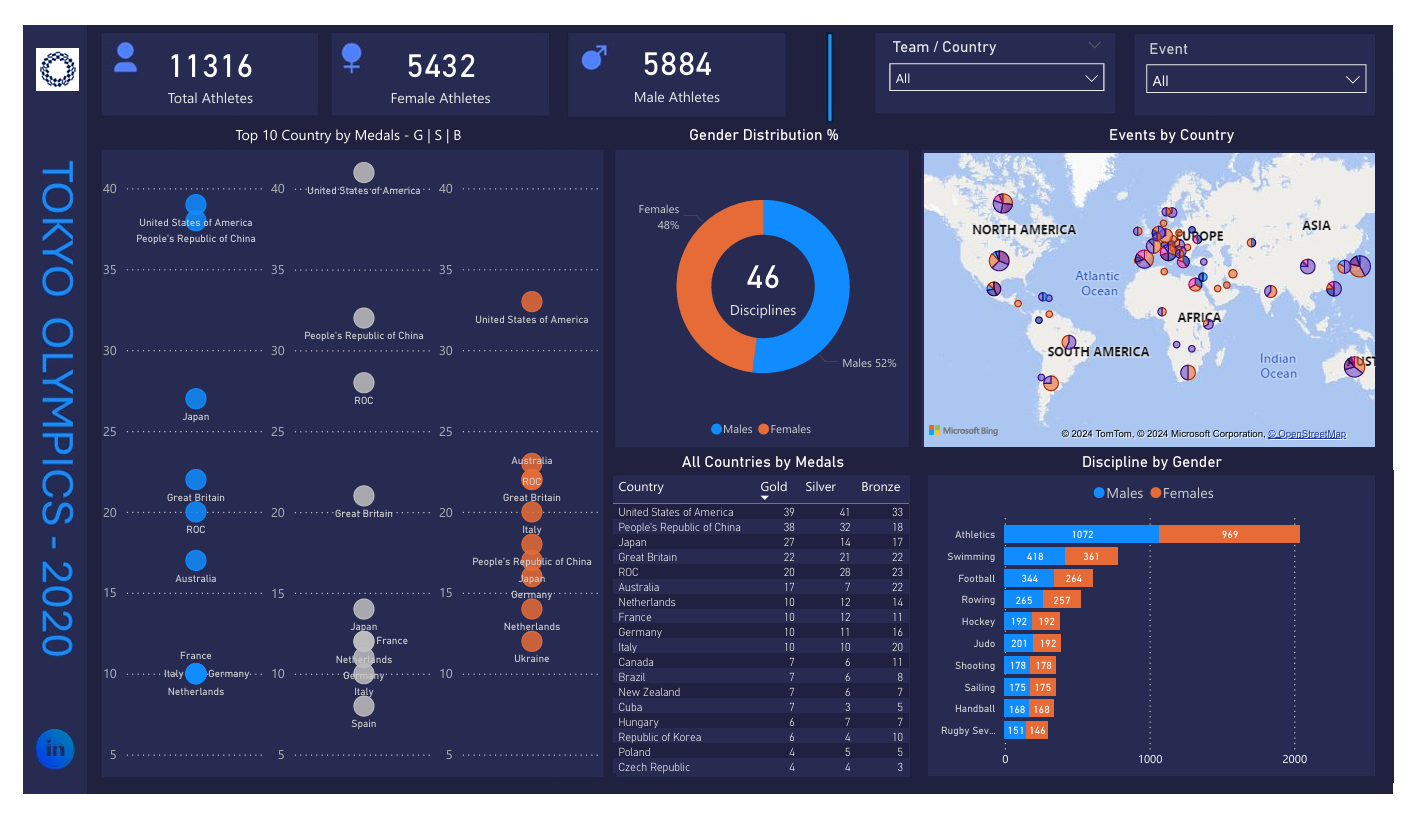

What the dashboard file says about the page in this screenshot:
{"tool":"powerbi","page":{"name":"Report","canvas":[1280,720],"ordinal":0},"visuals":[{"type":"card","fields":{"Values":["Measures (2).Total Athletes"]},"box":[75.8,5.8,197.5,75],"z":0},{"type":"card","fields":{"Values":["Measures (2).Female Athletes"]},"box":[291,5.8,196.6,75],"z":1000},{"type":"card","fields":{"Values":["Measures (2).Male Athletes"]},"box":[512.2,4.4,196.7,75.6],"z":2000},{"type":"donutChart","fields":{"Y":["Measures (2).Male Athletes","Measures (2).Female Athletes"]},"box":[552,119,278,276],"z":3000},{"type":"card","fields":{"Values":["Count(athletes.Discipline)"]},"box":[651,203,80,76],"z":4000},{"type":"map","fields":{"Category":["coaches.Country"],"Size":["CountNonNull(coaches.Name)"],"Series":["coaches.Event"]},"box":[836.7,114.2,431.7,284.2],"z":5000},{"type":"slicer","fields":{"Values":["medals.TeamCountry"]},"box":[799,7,221,75],"z":6000},{"type":"tableEx","fields":{"Values":["medals.TeamCountry","Sum(medals.Gold)","Sum(medals.Silver)","Sum(medals.Bronze)"]},"box":[545.2,416.2,299.5,287.6],"z":7000},{"type":"barChart","fields":{"Category":["entriesgender.Discipline"],"Y":["Measures (2).Male Athletes","Measures (2).Female Athletes"]},"box":[840,415.9,440,288.2],"z":8000},{"type":"textbox","box":[553,88.3,278,38],"z":9000},{"type":"scatterChart","fields":{"Y":["Sum(medals.Gold)"],"Series":["medals.TeamCountry"]},"box":[69,138,161,566],"z":10000},{"type":"scatterChart","fields":{"Series":["medals.TeamCountry"],"Y":["Sum(medals.Silver)"]},"box":[226,93,161,611],"z":11000},{"type":"scatterChart","fields":{"Series":["medals.TeamCountry"],"Y":["Sum(medals.Bronze)"]},"box":[383,138,161,566],"z":12000},{"type":"image","box":[6.7,13.3,50,54.2],"z":13000},{"type":"image","box":[0,644,58,60],"z":14000},{"type":"shape","box":[829.4,415.9,15.3,292.4],"z":15000},{"type":"shape","box":[1264.7,415.9,15.3,292.4],"z":16000},{"type":"textbox","box":[69.2,88.3,468.3,38.3],"z":17000},{"type":"textbox","box":[934.2,88.3,277.5,38.3],"z":18000},{"type":"textbox","box":[550,393.3,281.7,38.3],"z":19000},{"type":"slicer","fields":{"Values":["coaches.Event"]},"box":[1039.4,7.6,225.3,73.5],"z":20000},{"type":"textbox","box":[844.5,393.3,420.1,38.4],"z":21000}]}

Visuals, with their boxes in screenshot pixels (x1, y1, x2, y2), scaled from the page's 1280x720 canvas onto the 1416x815 screenshot:
card - Measures (2).Total Athletes: BBox(84, 7, 302, 91)
card - Measures (2).Female Athletes: BBox(322, 7, 539, 91)
card - Measures (2).Male Athletes: BBox(567, 5, 784, 91)
donutChart - Measures (2).Male Athletes x Measures (2).Female Athletes: BBox(611, 135, 918, 447)
card - Count(athletes.Discipline): BBox(720, 230, 809, 316)
map - coaches.Country x CountNonNull(coaches.Name): BBox(926, 129, 1403, 451)
slicer - medals.TeamCountry: BBox(884, 8, 1128, 93)
tableEx - medals.TeamCountry x Sum(medals.Gold): BBox(603, 471, 934, 797)
barChart - entriesgender.Discipline x Measures (2).Male Athletes: BBox(929, 471, 1415, 797)
textbox: BBox(612, 100, 919, 143)
scatterChart - Sum(medals.Gold) x medals.TeamCountry: BBox(76, 156, 254, 797)
scatterChart - medals.TeamCountry x Sum(medals.Silver): BBox(250, 105, 428, 797)
scatterChart - medals.TeamCountry x Sum(medals.Bronze): BBox(424, 156, 602, 797)
image: BBox(7, 15, 63, 76)
image: BBox(0, 729, 64, 797)
shape: BBox(918, 471, 934, 802)
shape: BBox(1399, 471, 1415, 802)
textbox: BBox(77, 100, 595, 143)
textbox: BBox(1033, 100, 1340, 143)
textbox: BBox(608, 445, 920, 489)
slicer - coaches.Event: BBox(1150, 9, 1399, 92)
textbox: BBox(934, 445, 1399, 489)
